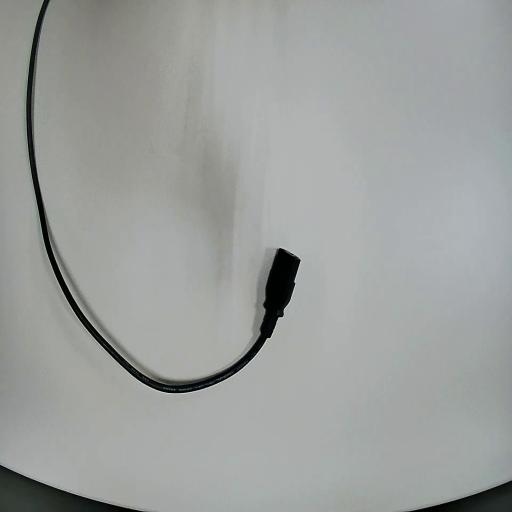wire: (27, 0, 298, 391)
